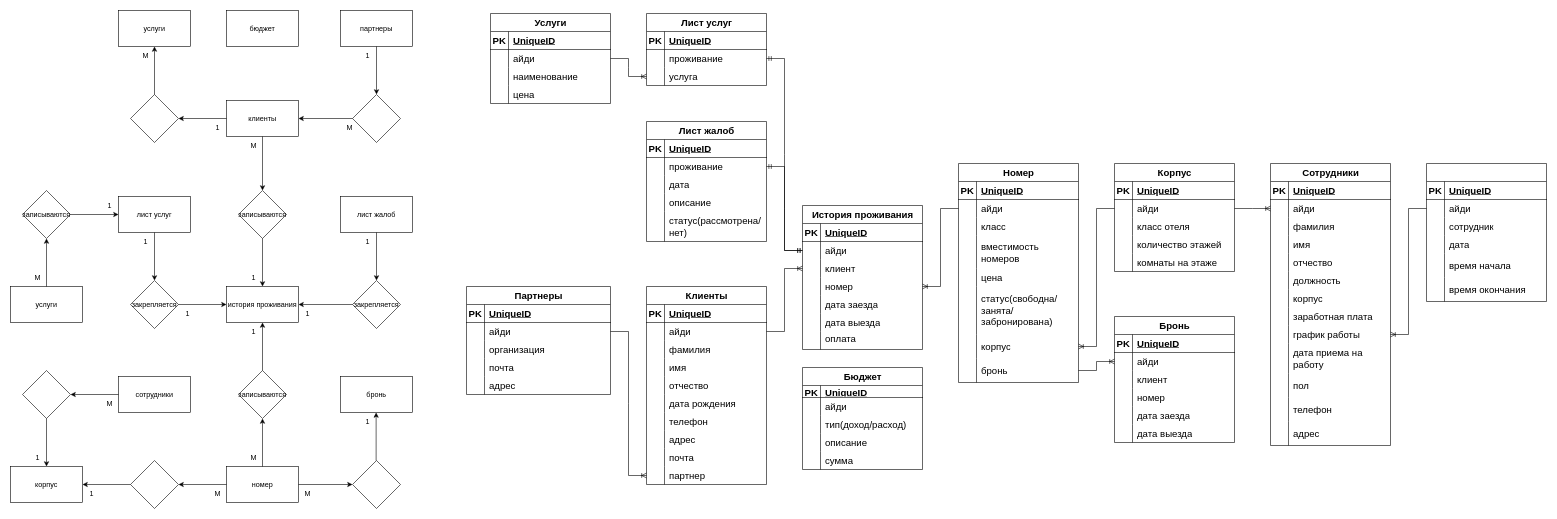
Some shapes in this 1557 by 519 pixel diagram are drawn without their labels. Each missing label, with the box of its shape:
График: (1426, 163, 1546, 302)
находятся: (130, 460, 178, 508)
отправляют: (352, 94, 400, 142)
пользуются: (130, 94, 178, 142)
работают: (22, 370, 70, 418)
резервируется: (352, 460, 400, 508)
